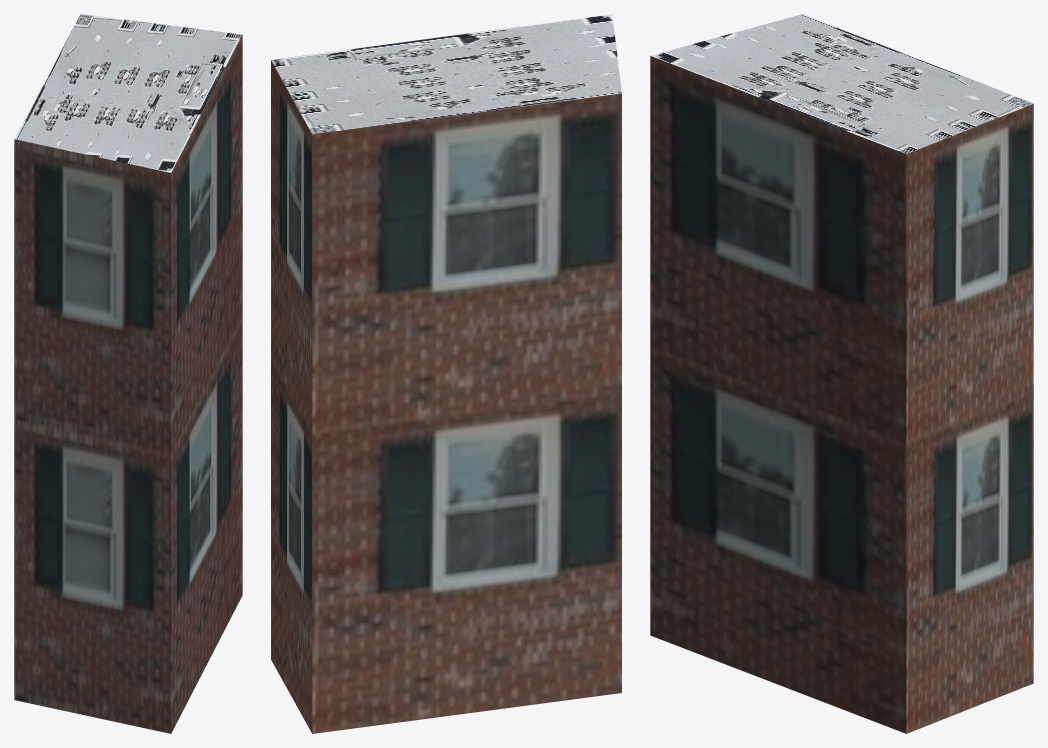
File: ResTex__1661.fbx
3 renders of one model, left to right at view 1: azimuth 30°, elevation 25°; view 2: azimuth 150°, elevation 25°; view 3: azimuth 270°, elevation 25°, orthographic. The views are drawn at different scales.
Parts seen in each view (by area): view 1: CityEngineMaterial_14_m, CityEngineMaterial_4_m; view 2: CityEngineMaterial_14_m, CityEngineMaterial_4_m; view 3: CityEngineMaterial_14_m, CityEngineMaterial_4_m.
Boxes of the visible parts, <box> form: CityEngineMaterial_14_m: <box>14,35,242,733</box>; CityEngineMaterial_4_m: <box>14,14,241,172</box>; CityEngineMaterial_14_m: <box>271,60,621,733</box>; CityEngineMaterial_4_m: <box>271,14,621,134</box>; CityEngineMaterial_14_m: <box>650,56,1033,733</box>; CityEngineMaterial_4_m: <box>650,14,1033,154</box>.
Bounding box in the file's own units: 3.11 × 6 × 3.6.
2 materials, 2 textured.
